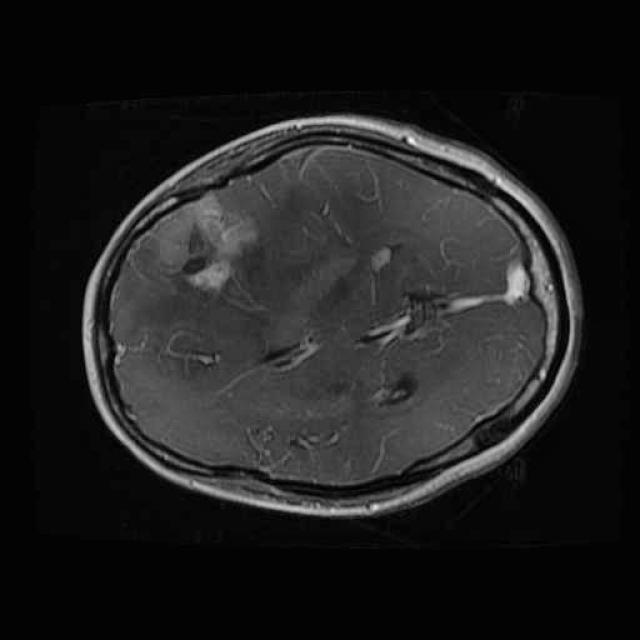Non-Tumor: (120, 179, 270, 310)
